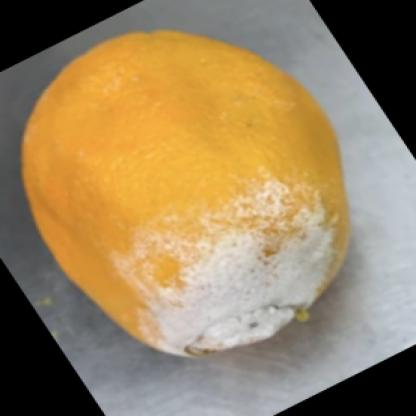rotten: (24, 32, 357, 363)
